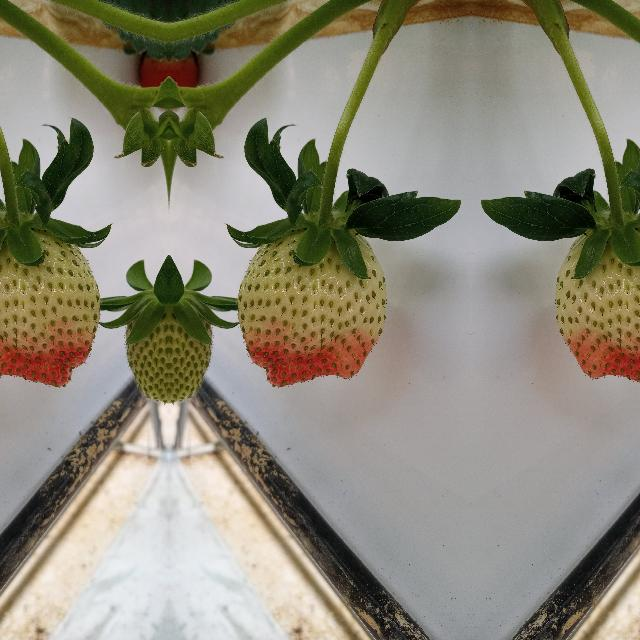Health_25: (168, 281, 220, 409), (116, 281, 168, 409)
Health_50: (235, 226, 387, 388), (0, 226, 101, 387), (554, 226, 640, 387)
